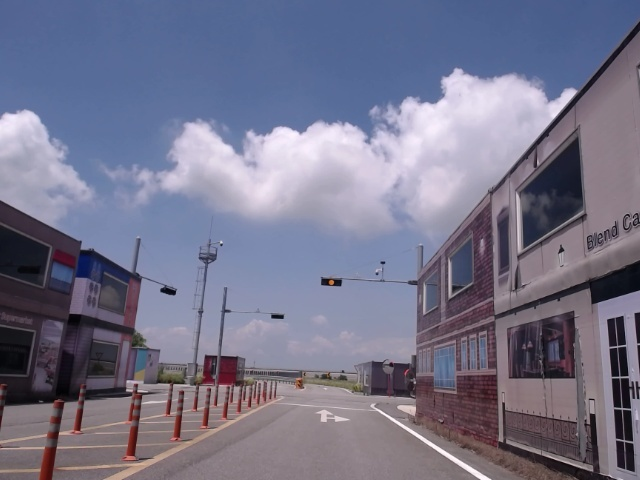orange_3: (320, 278, 343, 286)
